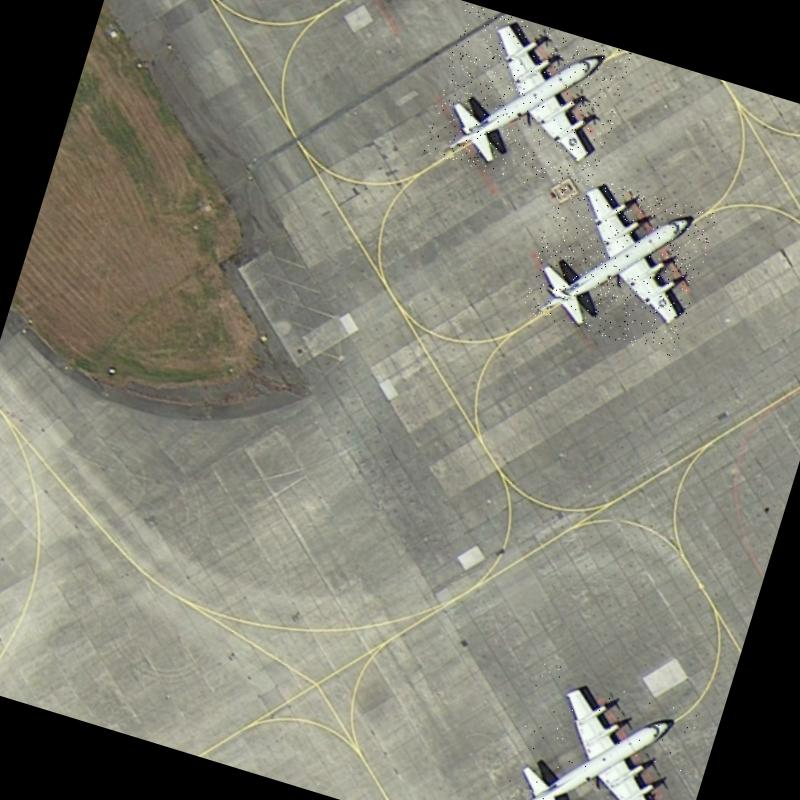A9: (422, 3, 635, 204), (519, 167, 718, 358), (491, 658, 702, 800)
